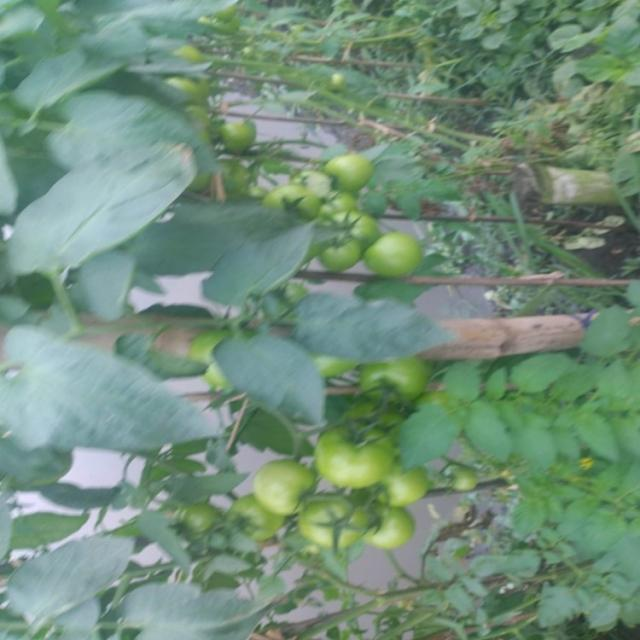tomato: (308, 410, 397, 501), (366, 444, 440, 527), (285, 485, 366, 551), (351, 346, 430, 412), (360, 229, 428, 286), (353, 500, 421, 557), (252, 464, 325, 517), (303, 229, 369, 284), (259, 174, 316, 233), (322, 149, 380, 200), (199, 116, 265, 157), (324, 203, 376, 249), (283, 164, 337, 207), (228, 498, 271, 550), (441, 458, 480, 512), (168, 504, 216, 544), (165, 70, 210, 108)
